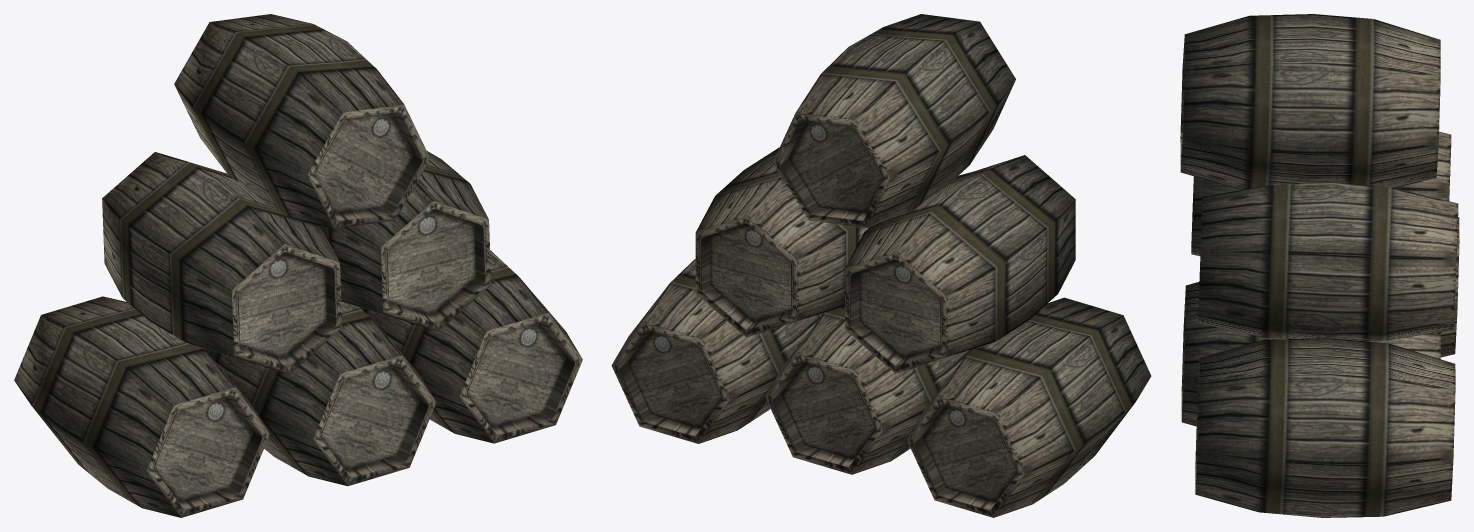
The model's file is barrel_group_1.fbx.
The picture shows the model from 3 angles, left to right: view 1: azimuth 30°, elevation 25°; view 2: azimuth 150°, elevation 25°; view 3: azimuth 270°, elevation 25°; orthographic projection. The views are drawn at different scales.
Visible parts, largest first — view 1: barrel_high6, barrel_high4, barrel_high3, barrel_high1, barrel_high, barrel_high5; view 2: barrel_high6, barrel_high4, barrel_high3, barrel_high, barrel_high5, barrel_high1; view 3: barrel_high, barrel_high6, barrel_high5, barrel_high1, barrel_high4, barrel_high3.
Part boxes in pixels (x1,y1,x2,y2): barrel_high6: (174,14,430,228); barrel_high4: (102,152,342,374); barrel_high3: (14,296,269,517); barrel_high1: (203,301,436,486); barrel_high: (360,250,582,443); barrel_high5: (319,151,491,331); barrel_high6: (773,14,1015,227); barrel_high4: (845,155,1075,373); barrel_high3: (906,297,1151,517); barrel_high: (611,259,823,443); barrel_high5: (695,147,868,337); barrel_high1: (765,306,972,474); barrel_high: (1195,338,1455,517); barrel_high6: (1180,14,1440,189); barrel_high5: (1198,182,1458,341); barrel_high1: (1181,282,1441,426); barrel_high4: (1191,131,1451,256); barrel_high3: (1440,217,1459,357).
Size of the model in its own units: 1340 by 1098 by 707.
1 material, 1 textured.
